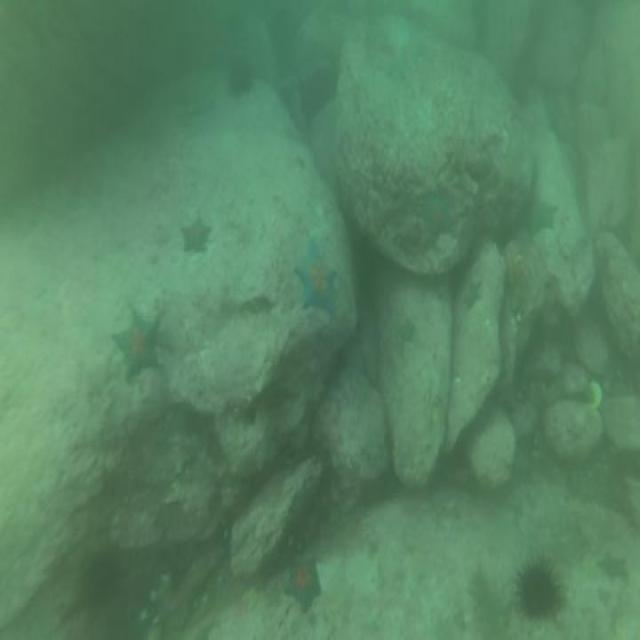echinus: (511, 547, 565, 626), (79, 545, 120, 620), (300, 68, 332, 125), (226, 52, 256, 98)
starfish: (110, 308, 166, 390), (291, 237, 341, 324), (280, 551, 324, 618), (418, 184, 458, 246), (518, 188, 558, 239), (178, 215, 213, 261), (594, 545, 631, 586), (460, 274, 482, 314), (394, 314, 418, 348)
